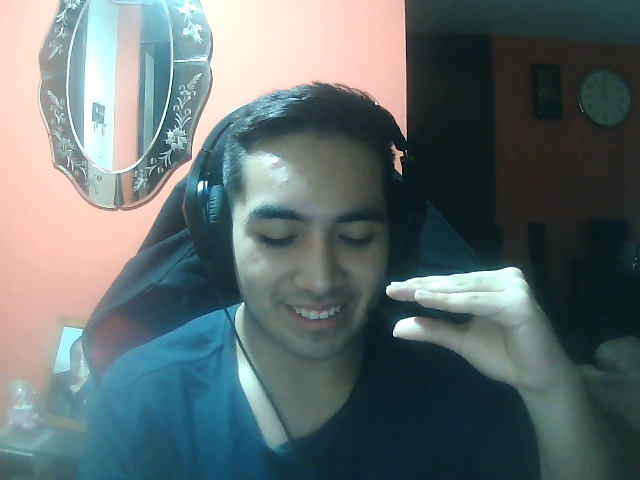no: (383, 258, 588, 390)
